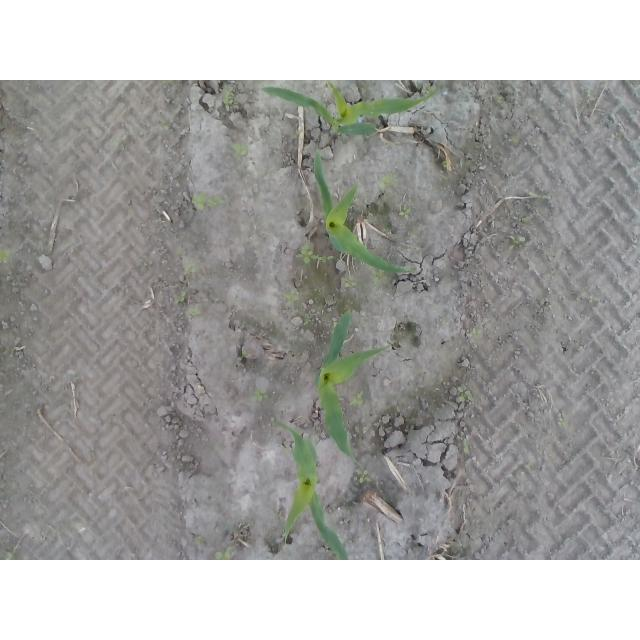Maize: (314, 152, 414, 275), (315, 311, 393, 458), (275, 420, 350, 560), (258, 80, 434, 136)
Weeds: (300, 242, 336, 264), (190, 192, 226, 212), (377, 173, 402, 190), (222, 86, 234, 112), (231, 142, 249, 158), (507, 235, 527, 249), (251, 389, 270, 403), (353, 469, 371, 483), (215, 548, 234, 561), (350, 390, 364, 407), (397, 207, 412, 222), (457, 386, 471, 402), (0, 548, 18, 560), (372, 270, 388, 282), (344, 277, 359, 288), (0, 248, 10, 264), (175, 292, 187, 305), (287, 292, 299, 304), (195, 536, 205, 545), (558, 416, 567, 426), (441, 160, 447, 168)
